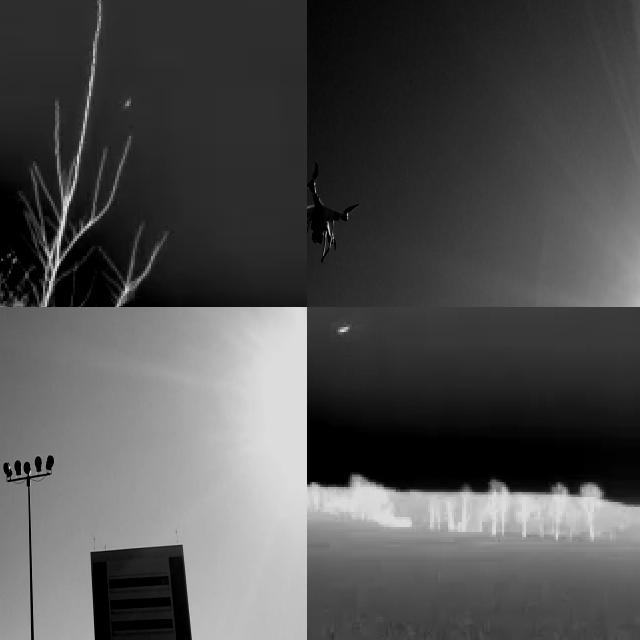0: (117, 92, 141, 120)
1: (327, 319, 359, 347)
drone: (307, 165, 358, 264)
